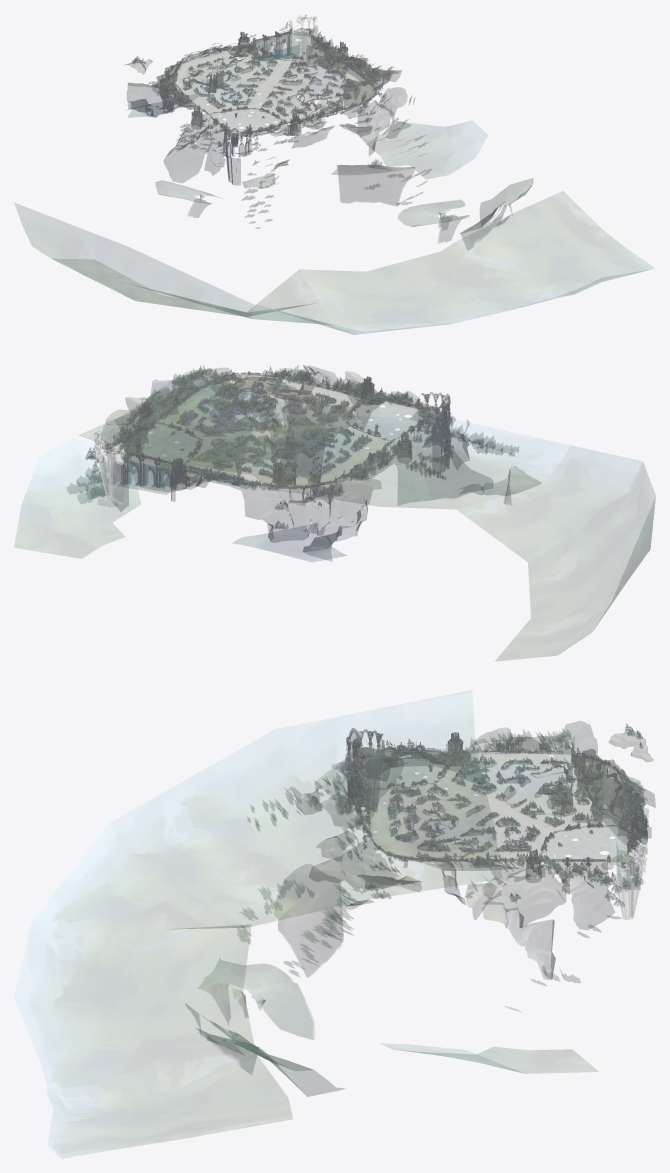
The model's file is rift-lite.glb.
3 views of the same model, one above another, from view 1: azimuth 30°, elevation 25°; view 2: azimuth 150°, elevation 25°; view 3: azimuth 270°, elevation 25° (orthographic). The views are drawn at different scales.
Parts seen in each view (by area): view 1: SummonersRift; view 2: SummonersRift; view 3: SummonersRift.
Part boxes in pixels (box(x1,y1,x2,y2)): SummonersRift: box(15, 15, 654, 334); SummonersRift: box(14, 365, 655, 661); SummonersRift: box(14, 690, 655, 1158).
Bounding box in the file's own units: 44083 × 13094 × 34246.
113 materials, 112 textured.
